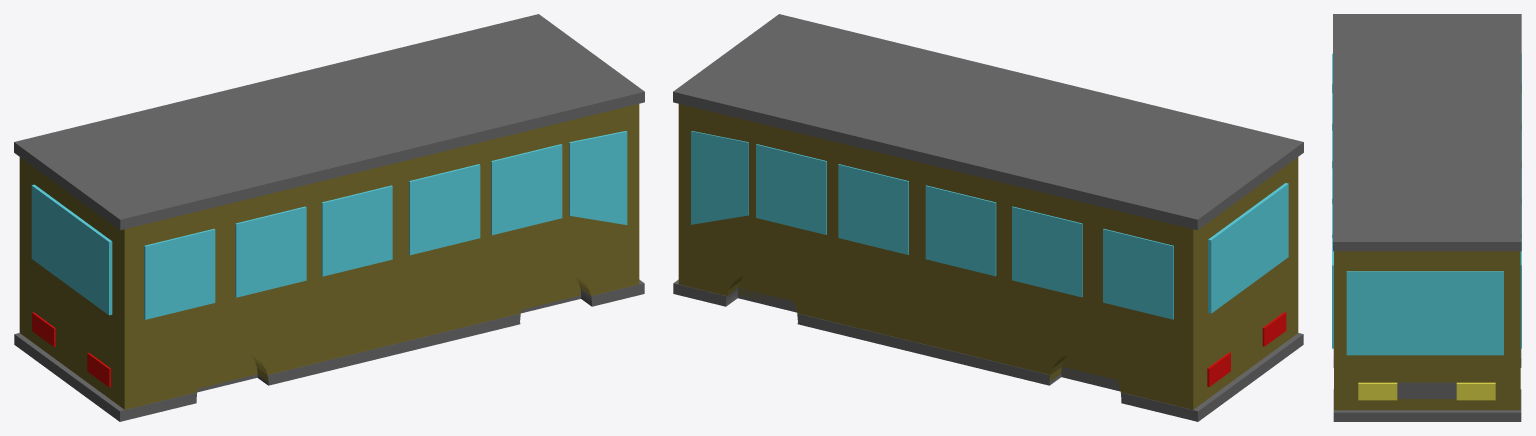
The model's file is bus1.fbx.
3 renders of one model, left to right at view 1: azimuth 30°, elevation 25°; view 2: azimuth 150°, elevation 25°; view 3: azimuth 270°, elevation 25°, orthographic. The views are drawn at different scales.
Visible parts, largest first — view 1: Cube, Cube.002, Cube.001, Cube.003; view 2: Cube, Cube.002, Cube.001, Cube.003; view 3: Cube.002, Cube, Cube.001, Cube.003.
Boxes of the visible parts, bbox=[...] form: Cube: bbox=[19, 104, 639, 409]; Cube.002: bbox=[14, 14, 644, 421]; Cube.001: bbox=[31, 131, 627, 319]; Cube.003: bbox=[32, 312, 110, 387]; Cube: bbox=[678, 104, 1298, 409]; Cube.002: bbox=[673, 14, 1303, 421]; Cube.001: bbox=[691, 131, 1288, 319]; Cube.003: bbox=[1207, 312, 1286, 386]; Cube.002: bbox=[1333, 14, 1521, 421]; Cube: bbox=[1334, 251, 1520, 410]; Cube.001: bbox=[1332, 53, 1521, 355]; Cube.003: bbox=[1358, 382, 1495, 400].
Size of the model in its own units: 577 by 213 by 203.
